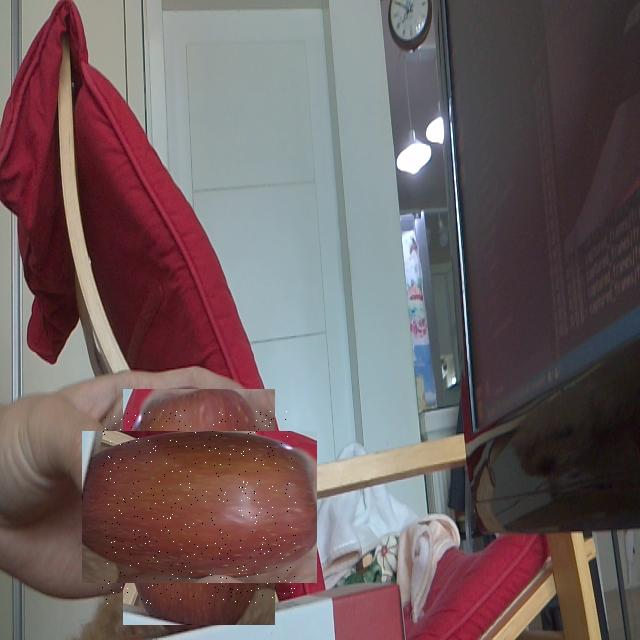apple: (102, 410, 296, 604)
